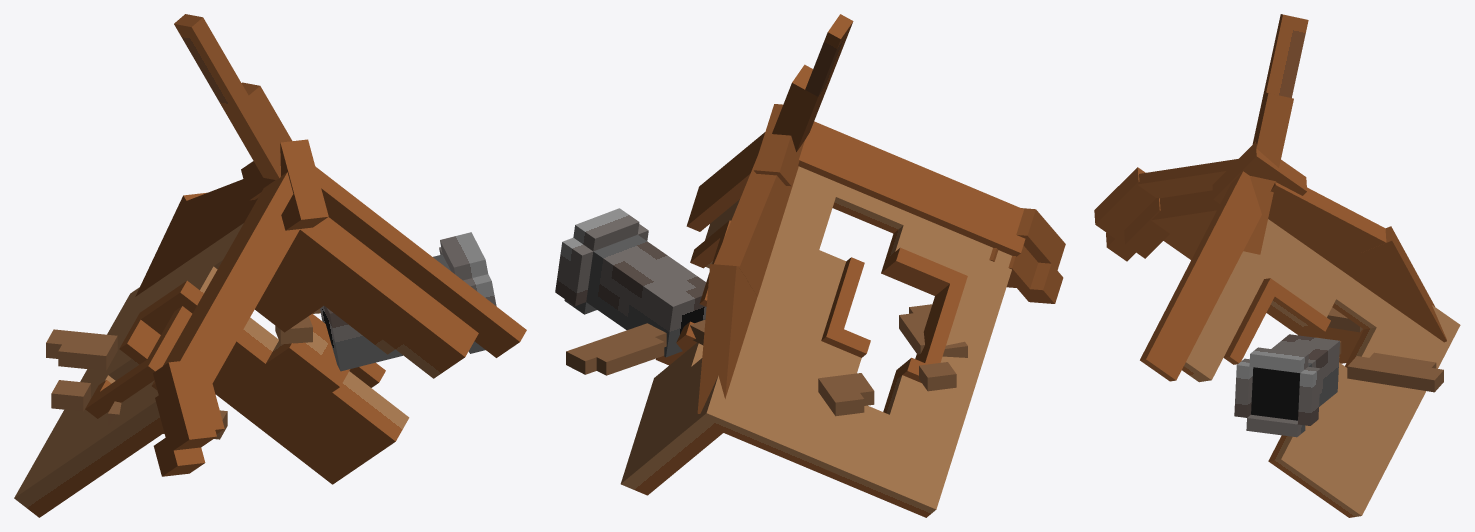
The model's file is wreck_cannon.glb.
3 renders of one model, left to right at view 1: azimuth 30°, elevation 25°; view 2: azimuth 150°, elevation 25°; view 3: azimuth 270°, elevation 25°, orthographic. The views are drawn at different scales.
Visible parts, largest first — view 1: ship_bow-Local, ship_hull_front_2x-Local, jib-Local, cannon_strbrd_bow-Local, rock-Local, spine_front-Local, spine_front_02B-Local, rock2-Local; view 2: ship_bow-Local, cannon_strbrd_bow-Local, ship_hull_front_2x-Local, spine_front_02B-Local, spine_front-Local, rock-Local, jib-Local, rock2-Local; view 3: ship_bow-Local, cannon_strbrd_bow-Local, ship_hull_front_2x-Local, spine_front-Local, jib-Local, spine_front_02B-Local, rock2-Local.
Part boxes in pixels (box(x1,y1,x2,y2)): ship_bow-Local: box(14, 166, 526, 517); ship_hull_front_2x-Local: box(153, 139, 328, 476); jib-Local: box(174, 14, 292, 179); cannon_strbrd_bow-Local: box(320, 232, 496, 371); rock-Local: box(46, 329, 227, 439); spine_front-Local: box(186, 179, 257, 255); spine_front_02B-Local: box(135, 192, 207, 296); rock2-Local: box(275, 308, 320, 344); ship_bow-Local: box(620, 121, 1025, 517); cannon_strbrd_bow-Local: box(555, 208, 706, 357); ship_hull_front_2x-Local: box(753, 104, 1065, 303); spine_front_02B-Local: box(697, 264, 757, 413); spine_front-Local: box(714, 156, 798, 296); rock-Local: box(818, 304, 967, 416); jib-Local: box(772, 14, 853, 151); rock2-Local: box(566, 320, 705, 375); ship_bow-Local: box(1137, 159, 1460, 517); cannon_strbrd_bow-Local: box(1234, 334, 1339, 437); ship_hull_front_2x-Local: box(1094, 142, 1307, 261); spine_front-Local: box(1268, 182, 1386, 278); jib-Local: box(1243, 14, 1308, 254); spine_front_02B-Local: box(1344, 226, 1446, 342); rock2-Local: box(1317, 307, 1443, 392).
Size of the model in its own units: 31.05 by 36.14 by 27.5.
Materials: 8 (8 with a texture image).
